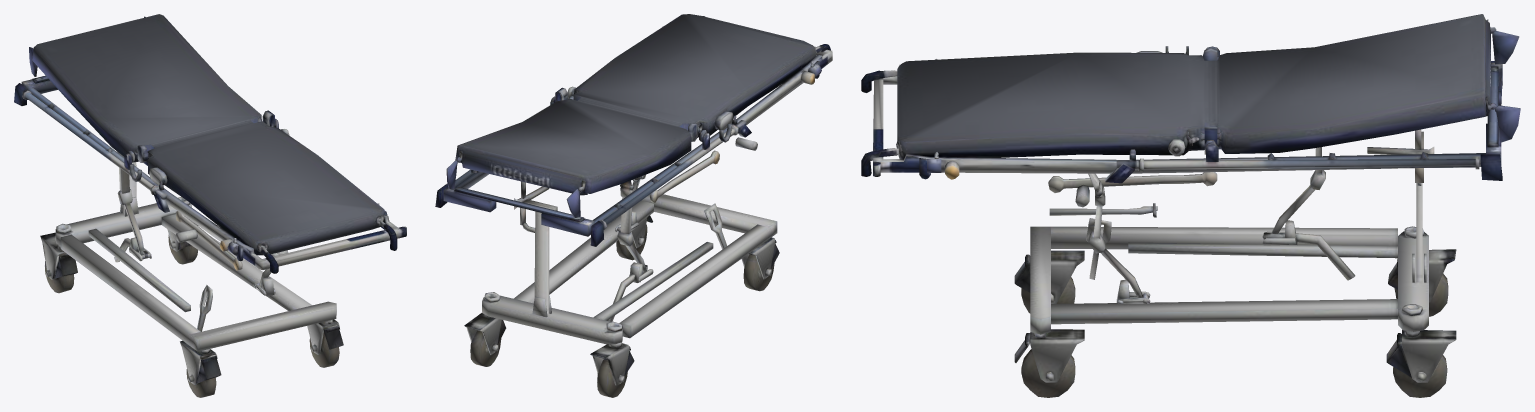
File: b3-gurney.glb
The picture shows the model from 3 angles, left to right: view 1: azimuth 30°, elevation 25°; view 2: azimuth 150°, elevation 25°; view 3: azimuth 270°, elevation 25°; orthographic projection. The views are drawn at different scales.
Parts seen in each view (by area): view 1: tripo_node_15993661-929f-4cdc-8993-3e39b0bb888e; view 2: tripo_node_15993661-929f-4cdc-8993-3e39b0bb888e; view 3: tripo_node_15993661-929f-4cdc-8993-3e39b0bb888e.
Boxes of the visible parts, x1,y1,x2,y2 form: tripo_node_15993661-929f-4cdc-8993-3e39b0bb888e: (14,14,406,397); tripo_node_15993661-929f-4cdc-8993-3e39b0bb888e: (435,14,832,397); tripo_node_15993661-929f-4cdc-8993-3e39b0bb888e: (861,14,1520,397).
Size of the model in its own units: 0.6209 by 0.86 by 1.7.
Materials: 1 (1 with a texture image).
